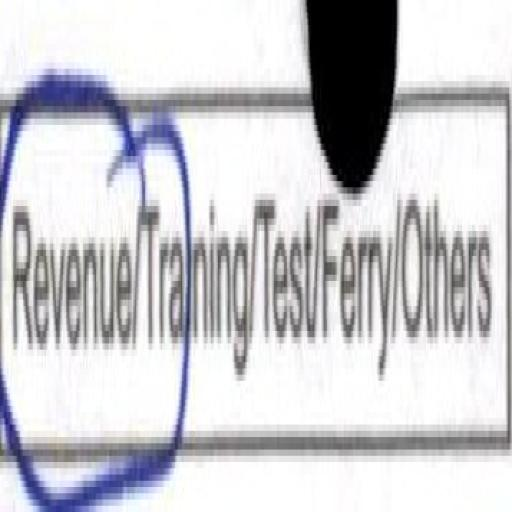check: (2, 46, 139, 498)
